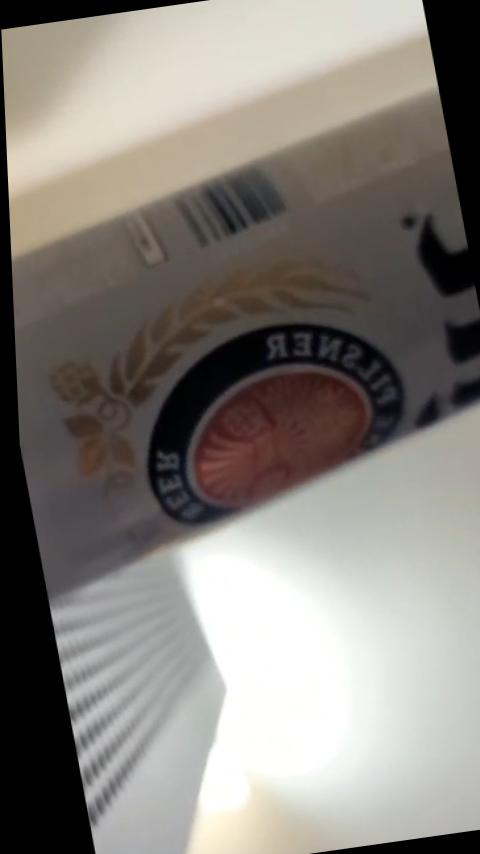metal: (15, 92, 479, 565)
